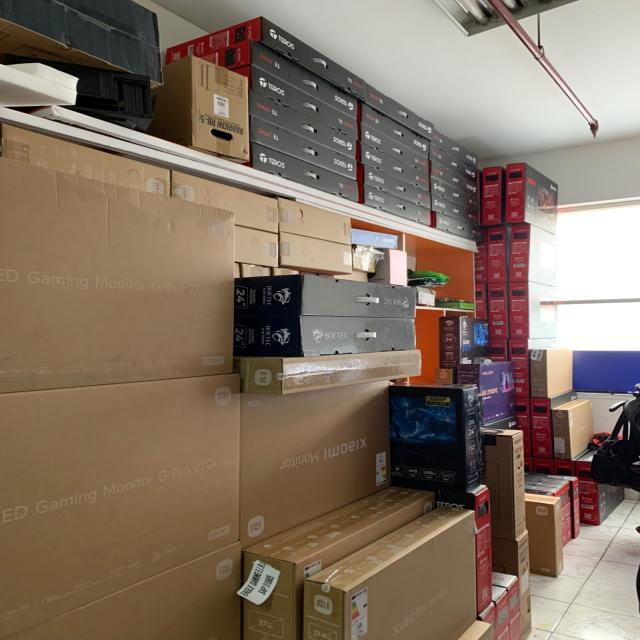caja-monitor: (1, 376, 241, 638), (0, 159, 234, 393), (244, 487, 434, 640), (240, 381, 390, 546), (305, 507, 477, 640), (4, 543, 240, 638), (167, 17, 367, 101), (199, 40, 357, 119), (0, 124, 169, 195), (389, 382, 481, 493), (235, 274, 417, 317), (251, 67, 358, 138), (250, 89, 356, 158), (436, 486, 494, 612), (236, 317, 417, 356), (251, 117, 357, 181), (174, 171, 277, 233), (252, 145, 359, 202), (482, 428, 526, 539), (491, 532, 532, 640), (576, 449, 626, 526), (525, 472, 581, 540), (360, 103, 429, 158), (506, 164, 559, 235), (367, 84, 433, 141), (456, 362, 516, 422), (279, 198, 353, 246), (510, 224, 564, 288), (361, 124, 428, 175), (360, 143, 428, 192), (525, 493, 563, 578), (280, 232, 352, 276), (531, 390, 577, 458), (525, 476, 572, 542), (362, 164, 430, 209), (508, 281, 559, 340), (510, 337, 557, 398), (525, 481, 568, 547), (439, 316, 491, 369), (364, 185, 430, 225), (551, 399, 594, 459), (530, 347, 574, 397), (234, 225, 279, 266), (429, 145, 476, 182), (433, 130, 477, 168), (431, 212, 484, 242), (431, 162, 478, 195), (431, 179, 478, 212), (431, 194, 478, 226), (487, 227, 512, 282), (483, 167, 505, 225), (488, 283, 509, 338), (516, 398, 531, 456), (526, 485, 561, 496), (491, 340, 509, 360), (533, 458, 554, 475), (554, 460, 576, 476)
